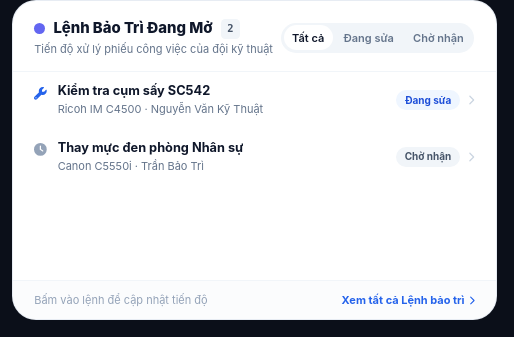
it: Dashboard Flow — NOC KPI Strip, Open Work Orders & Attention Table › ActiveOperationsCard renders only non-completed tasks, filters by status, and triggers onSelectTask
Later steps or results of the test are not shown.
Expected: the text "Kiểm tra cụm sấy SC542" is shown, [58,83,210,98]
Expected: the text "Thay mực đen phòng Nhân sự" is shown, [58,139,244,156]
Click the button "Đang sửa" at coordinates (369, 38), box [335,25,402,50]
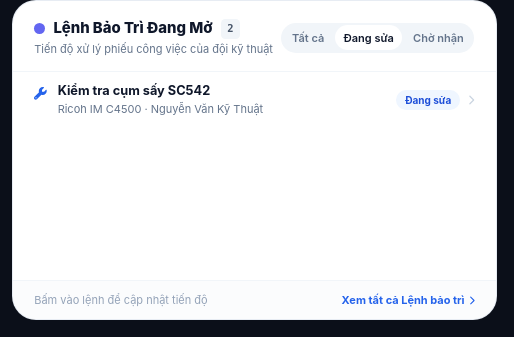
Expected: the text "Kiểm tra cụm sấy SC542" is shown, [58,83,210,98]
Result: the button "Thay mực đen phòng Nhân sự" is gone
